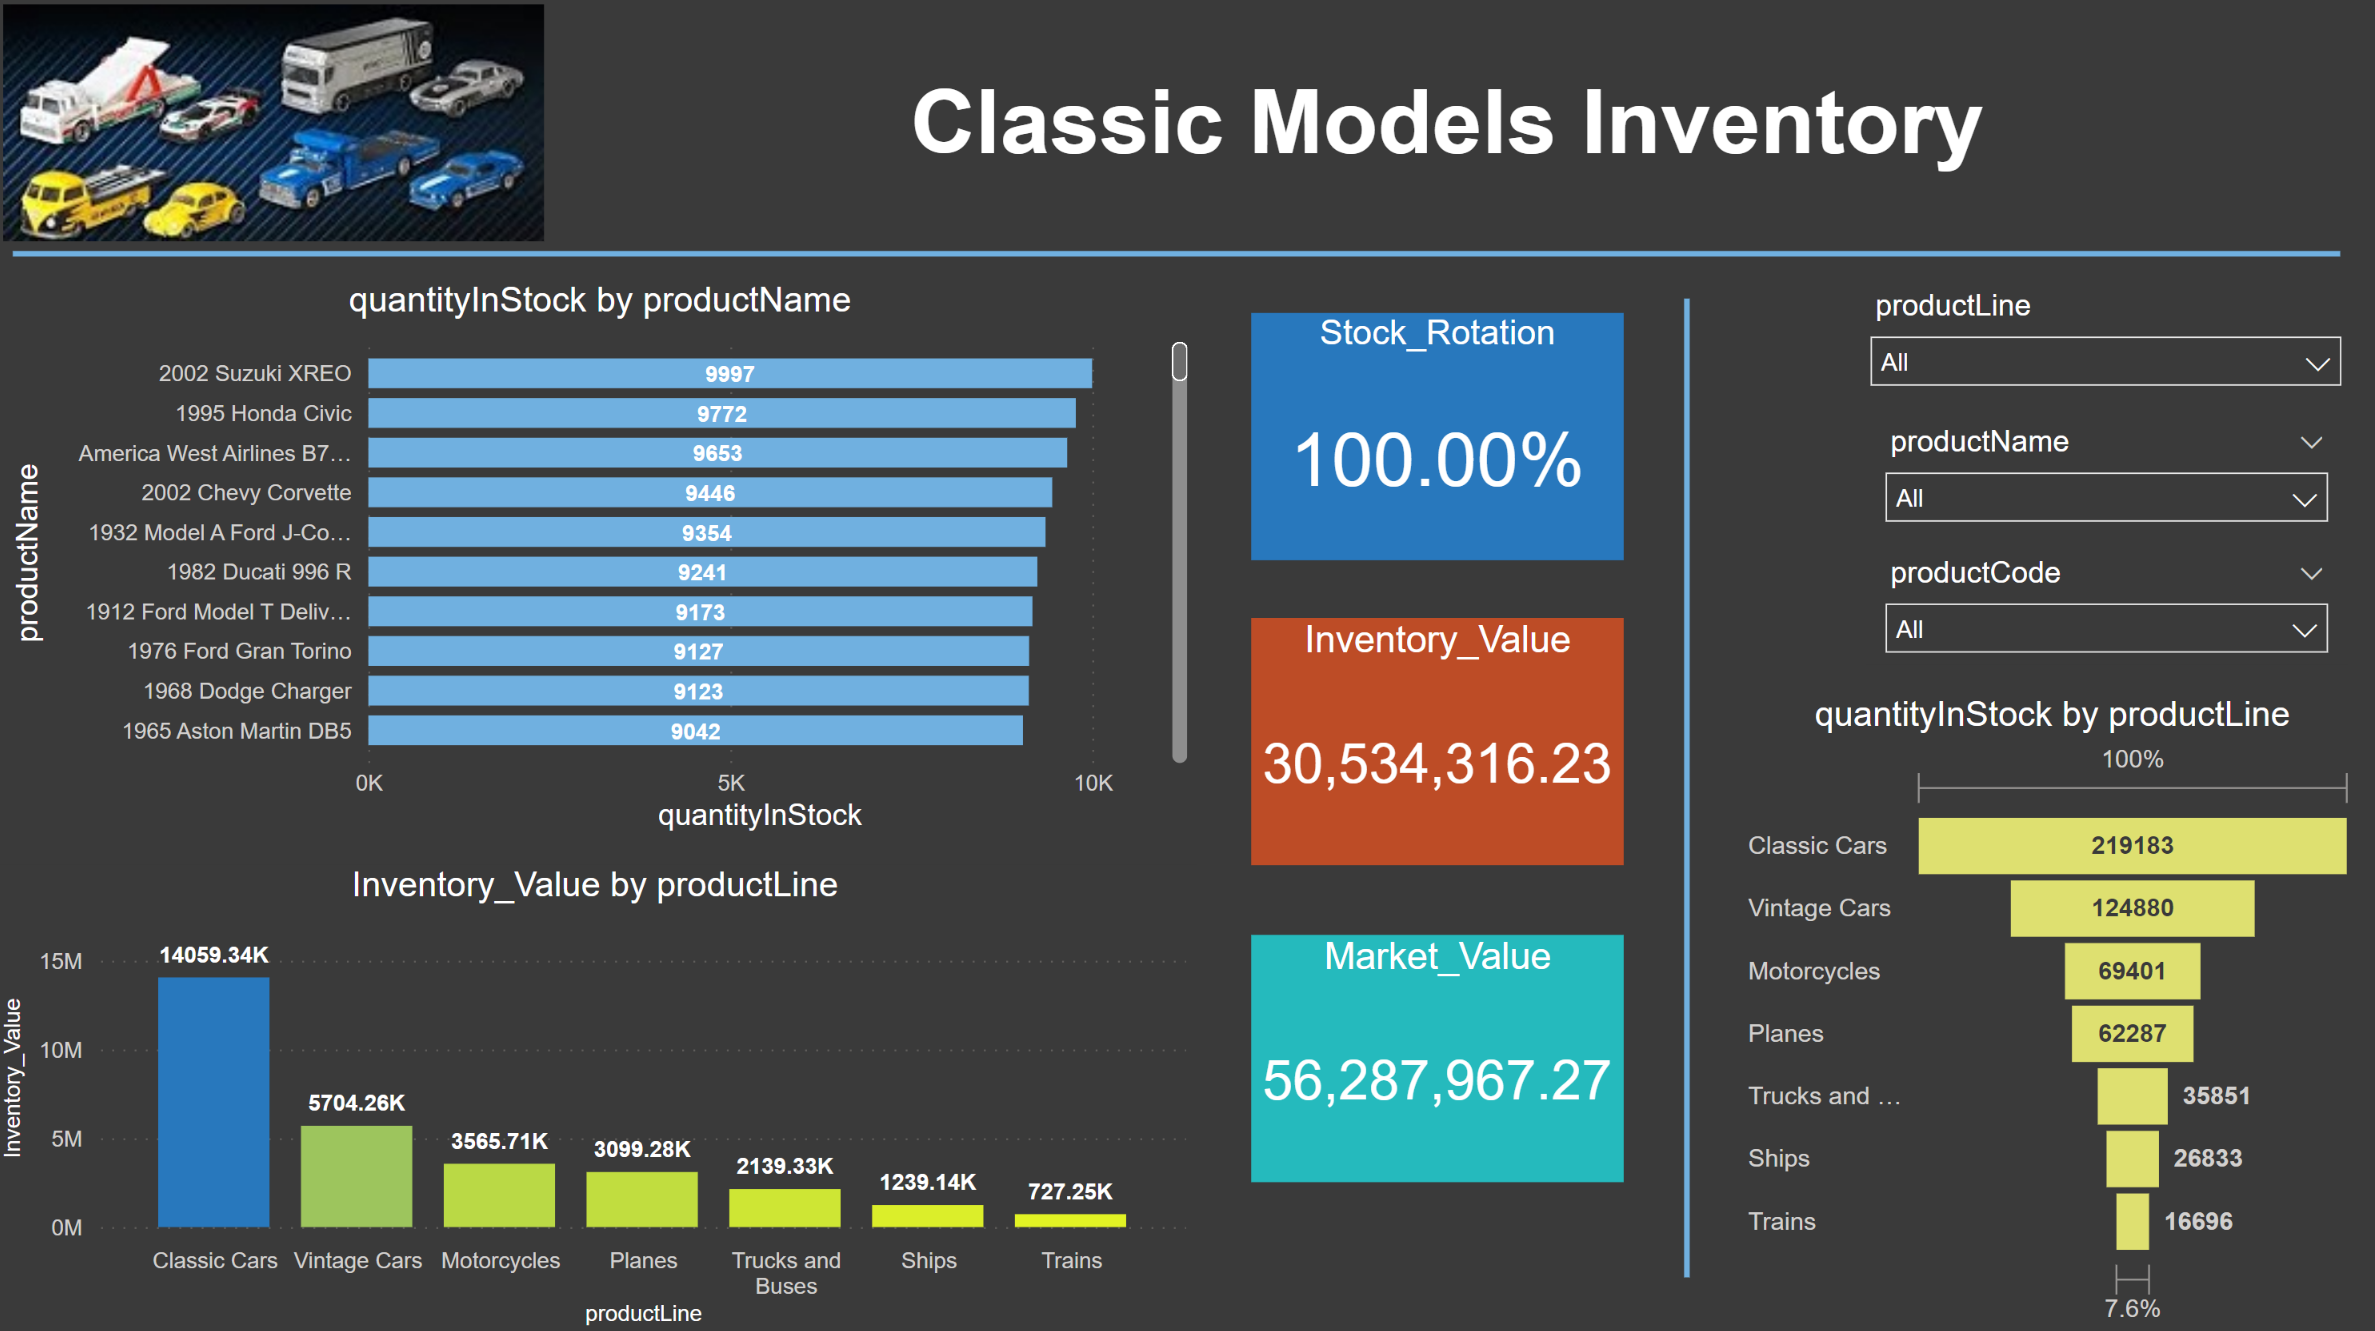

This screenshot's page, from the dashboard's own definition file:
{"tool":"powerbi","page":{"name":"Scenario1","canvas":[1280,720],"ordinal":0},"visuals":[{"type":"textbox","box":[306.3,36.6,948.2,88.3],"z":0},{"type":"image","box":[0,0,300.4,137.4],"z":1000},{"type":"funnel","fields":{"Y":["Sum(Products.quantityInStock)"],"Category":["Products.productLine"]},"box":[937.1,376.3,336.4,343.6],"z":2000},{"type":"basicShape","box":[0,125,1269.5,28.8],"z":3000},{"type":"basicShape","box":[884.7,153.8,47.8,545.8],"z":4000},{"type":"clusteredColumnChart","fields":{"Y":["Sum(Products.Value_Buy_Price)"],"Category":["Products.productLine"]},"box":[0,467.9,645.2,251.9],"z":5000},{"type":"slicer","fields":{"Values":["Products.productName"]},"box":[1005.3,226.6,258.2,63.2],"z":6000},{"type":"clusteredBarChart","fields":{"Category":["Products.productName"],"Y":["Sum(Products.quantityInStock)"]},"box":[5.2,153.8,640,301],"z":7000},{"type":"slicer","fields":{"Values":["Products.productLine"]},"box":[997.1,153.8,273.3,63.2],"z":8000},{"type":"card","title":"Stock_Rotation","fields":{"Values":["Sum(Stock_Rotation.Stock_Rotation)"]},"box":[674.7,171.5,200.2,132.8],"z":9000},{"type":"card","title":"Inventory_Value","fields":{"Values":["Sum(Products.Value_Buy_Price)"]},"box":[674.7,335.1,200.2,132.8],"z":10000},{"type":"card","title":"Market_Value","fields":{"Values":["Sum(Products.Value_MSRP)"]},"box":[674.7,505.2,200.2,132.8],"z":11000},{"type":"slicer","fields":{"Values":["Products.productCode"]},"box":[1005.3,296.7,258.2,63.2],"z":12000}]}

Visuals, with their boxes in screenshot pixels (x1, y1, x2, y2), scaled from the page's 1280x720 canvas onto the 2375x1331 screenshot:
textbox: [568,68,2328,231]
image: [0,0,557,254]
funnel - Sum(Products.quantityInStock) x Products.productLine: [1739,696,2363,1330]
basicShape: [0,231,2356,284]
basicShape: [1642,284,1730,1293]
clusteredColumnChart - Sum(Products.Value_Buy_Price) x Products.productLine: [0,865,1197,1330]
slicer - Products.productName: [1865,419,2344,536]
clusteredBarChart - Products.productName x Sum(Products.quantityInStock): [10,284,1197,841]
slicer - Products.productLine: [1850,284,2357,401]
"Stock_Rotation" card: [1252,317,1623,563]
"Inventory_Value" card: [1252,619,1623,865]
"Market_Value" card: [1252,934,1623,1179]
slicer - Products.productCode: [1865,548,2344,665]
